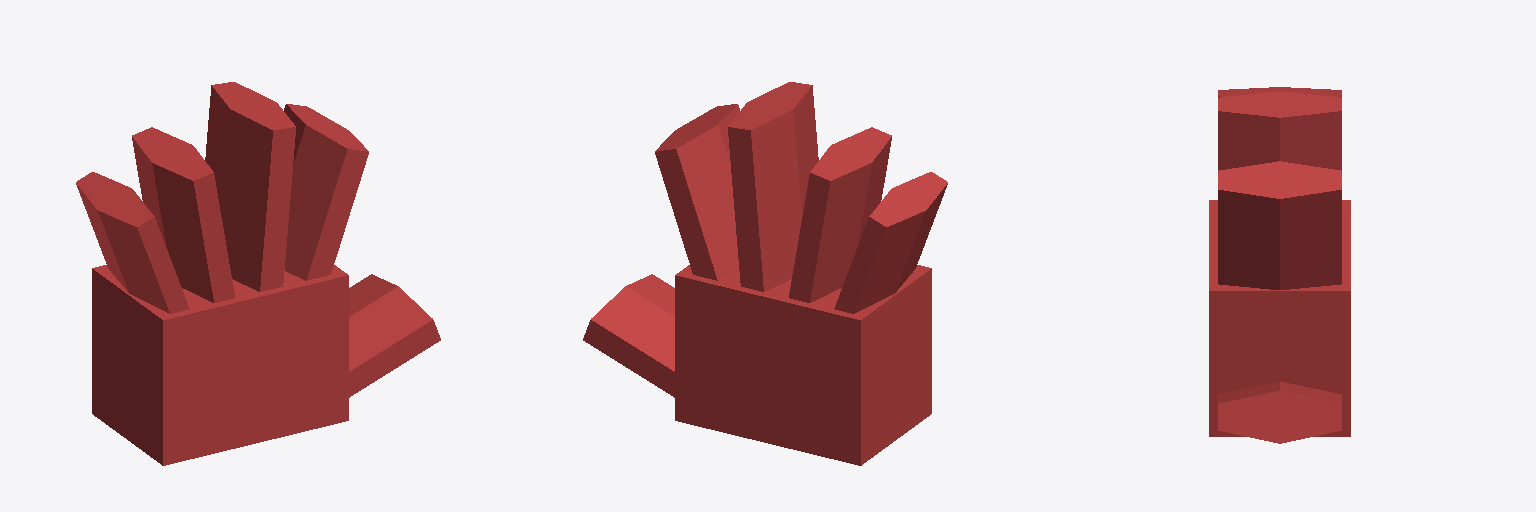
File: Paper.obj
3 renders of one model, left to right at view 1: azimuth 30°, elevation 25°; view 2: azimuth 150°, elevation 25°; view 3: azimuth 270°, elevation 25°, orthographic.
Parts seen in each view (by area): view 1: Paper; view 2: Paper; view 3: Paper.
Part boxes in pixels (x1,y1,x2,y2): Paper: (76,82,440,465); Paper: (583,82,947,465); Paper: (1209,87,1350,443).
Size of the model in its own units: 0.6399 by 0.5894 by 0.25.